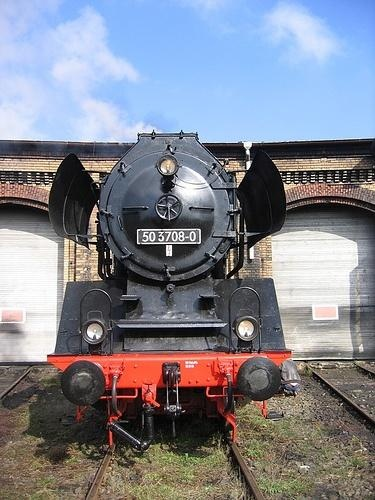train: (48, 130, 300, 451)
